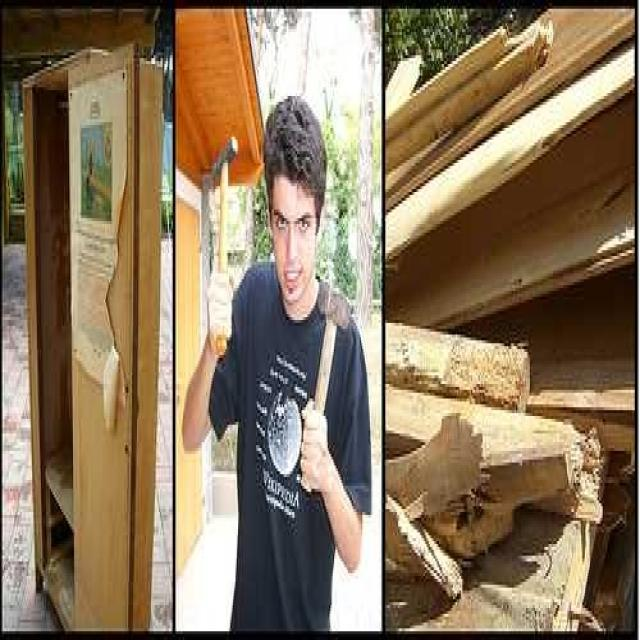hammer: (200, 128, 243, 364), (308, 274, 345, 502)
